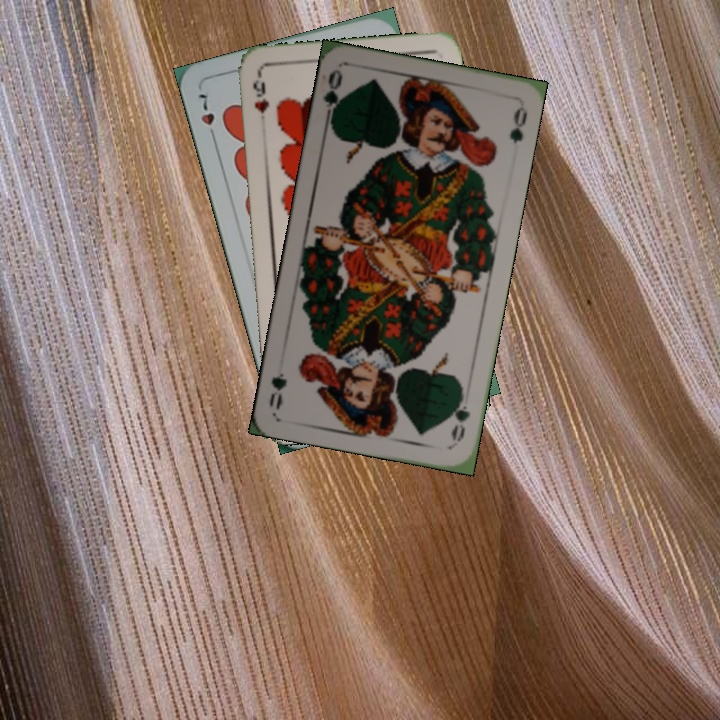GO: (319, 67, 347, 127), (447, 386, 473, 445)
H7: (194, 89, 219, 144)
H9: (248, 70, 271, 129)
